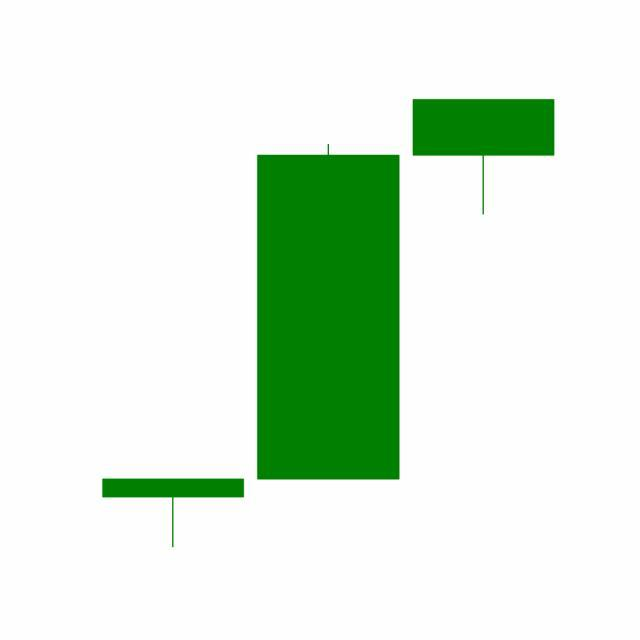Hanging Man: (406, 99, 562, 218)
